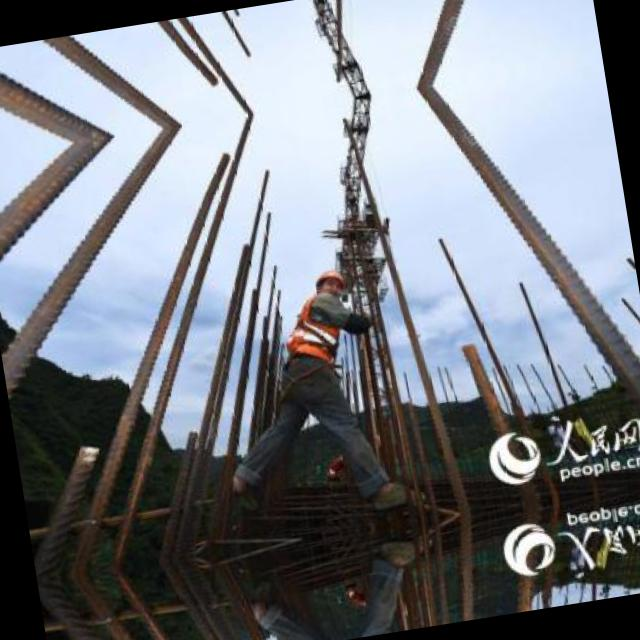helmet: (308, 264, 350, 304)
